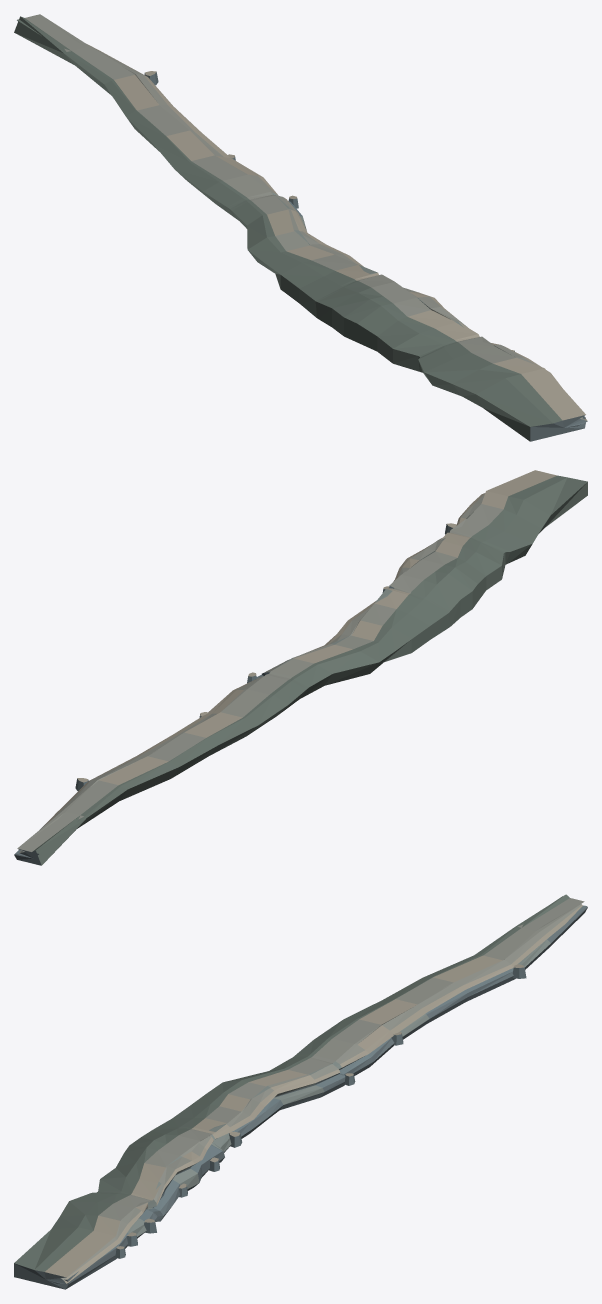
The model's file is 07_left_layered_shore.obj.
3 views of the same model, one above another, from view 1: azimuth 30°, elevation 25°; view 2: azimuth 150°, elevation 25°; view 3: azimuth 330°, elevation 25° (orthographic). The views are drawn at different scales.
Parts seen in each view (by area): view 1: Left_Bank_Strata; view 2: Left_Bank_Strata; view 3: Left_Bank_Strata.
Boxes of the visible parts, x1=… form: Left_Bank_Strata: x1=14, y1=14, x2=587, y2=441; Left_Bank_Strata: x1=14, y1=470, x2=587, y2=865; Left_Bank_Strata: x1=14, y1=894, x2=587, y2=1289.
Size of the model in its own units: 3.81 by 0.9403 by 30.28.
